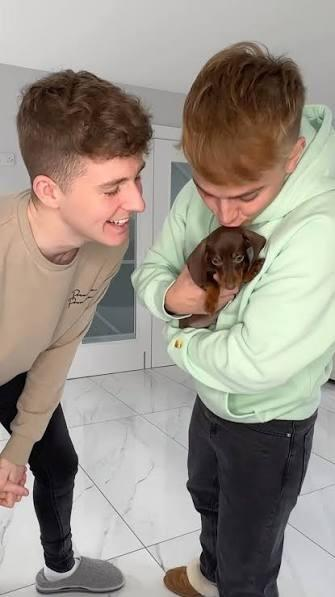non-dog: (129, 40, 335, 597), (0, 68, 153, 593)
puppy-dog: (175, 224, 268, 331)
